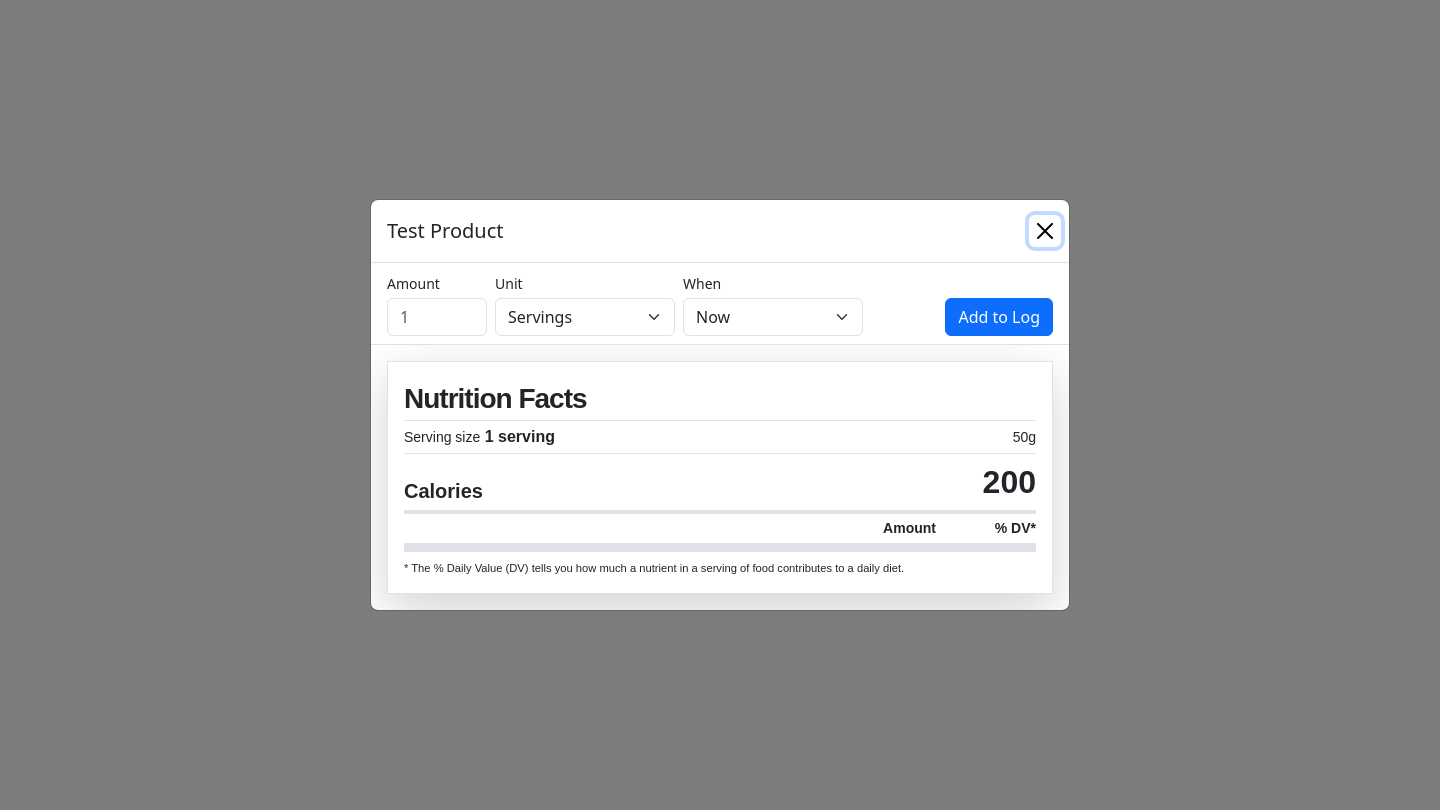
Test: LogModal › disables Log button while logging
Click the button "Add to Log": (999, 317) [945, 298, 1053, 336]
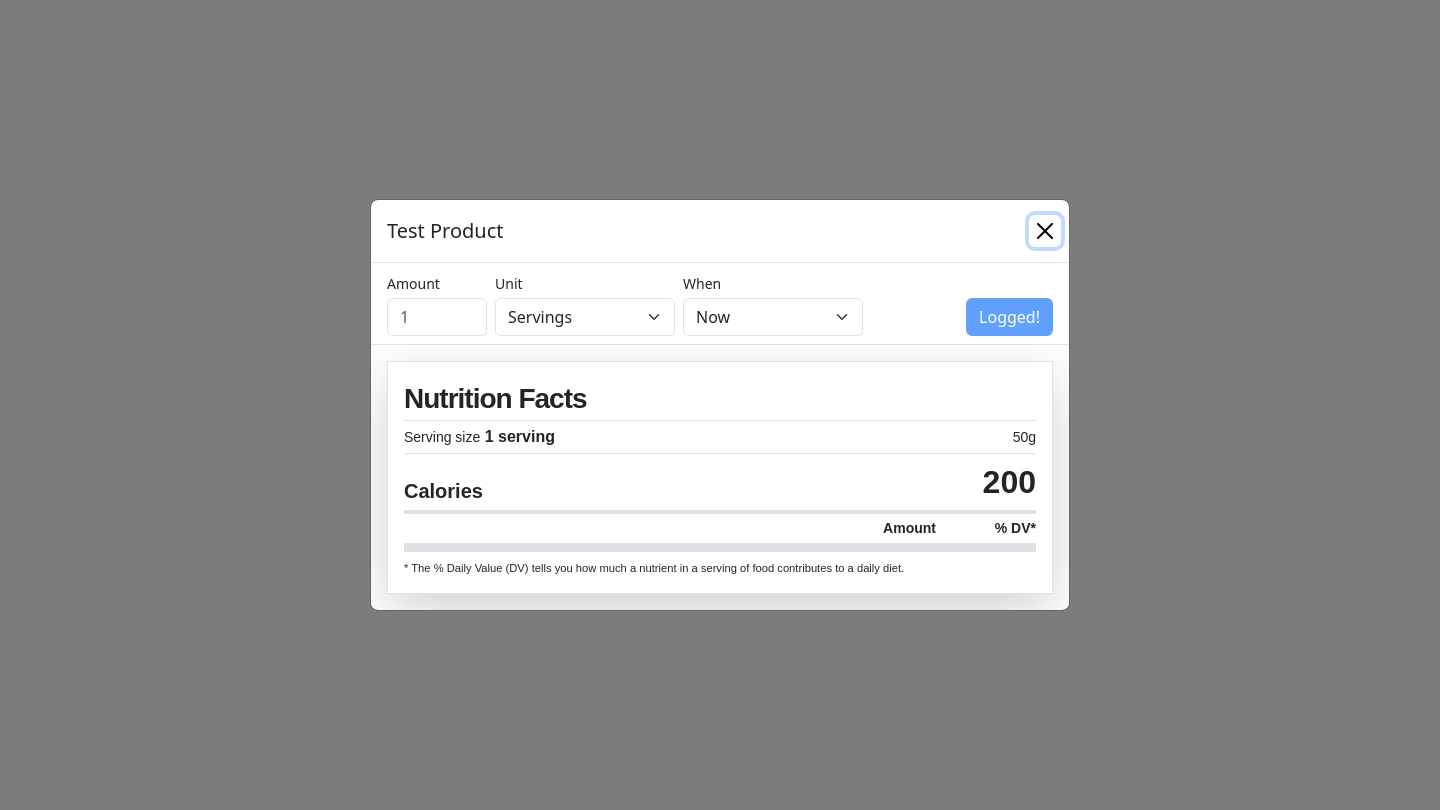
expect the button "Logging..." is disabled: met, box [966, 298, 1053, 336]
